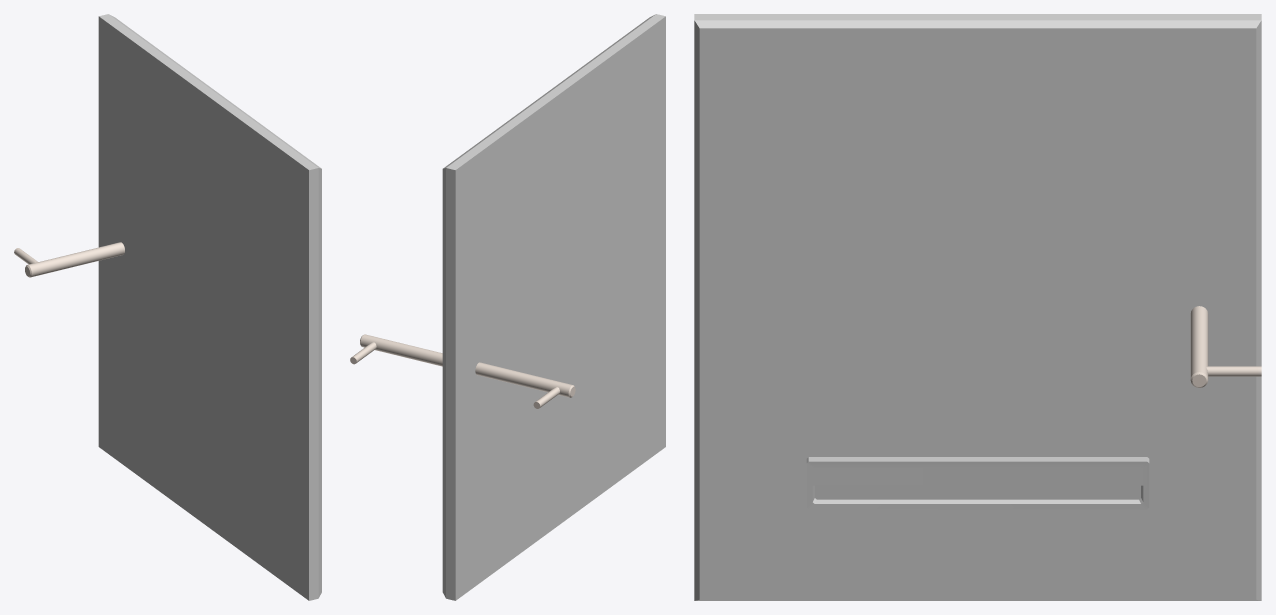
The model's file is Cabinet_83fb844c.obj.
The picture shows the model from 3 angles, left to right: view 1: azimuth 30°, elevation 25°; view 2: azimuth 150°, elevation 25°; view 3: azimuth 270°, elevation 25°; orthographic projection. The views are drawn at different scales.
Parts seen in each view (by area): view 1: Mesh_10da29e5, handle_1_178mm_10da29e5; view 2: Mesh_10da29e5, handle_1_178mm_10da29e5; view 3: Mesh_10da29e5, handle_1_178mm_10da29e5.
Boxes of the visible parts, box(x1,y1,x2,y2) form: Mesh_10da29e5: box(98, 14, 321, 600); handle_1_178mm_10da29e5: box(14, 242, 124, 277); Mesh_10da29e5: box(442, 14, 665, 600); handle_1_178mm_10da29e5: box(350, 334, 575, 408); Mesh_10da29e5: box(694, 14, 1261, 600); handle_1_178mm_10da29e5: box(1190, 306, 1261, 387).
Bounding box in the file's own units: 0.178 × 0.348 × 0.308.
